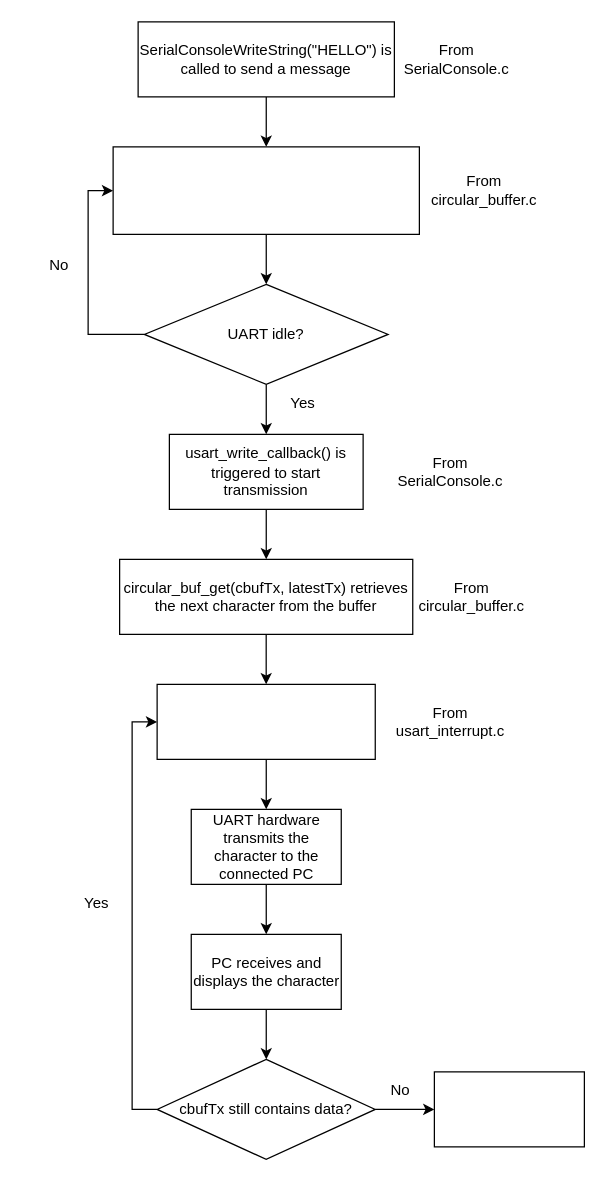
Some shapes in this 606 by 1181 pixel diagram are drawn without their labels. Each missing label, with the centre of its shape:
"Characters are stored in cbufTx using circular_buf_put(cbufTx, data)" belongs at [265,190].
"End" belongs at [508,1109].
"usart_write_buffer_job() sends the character via UART hardware" belongs at [265,721].
